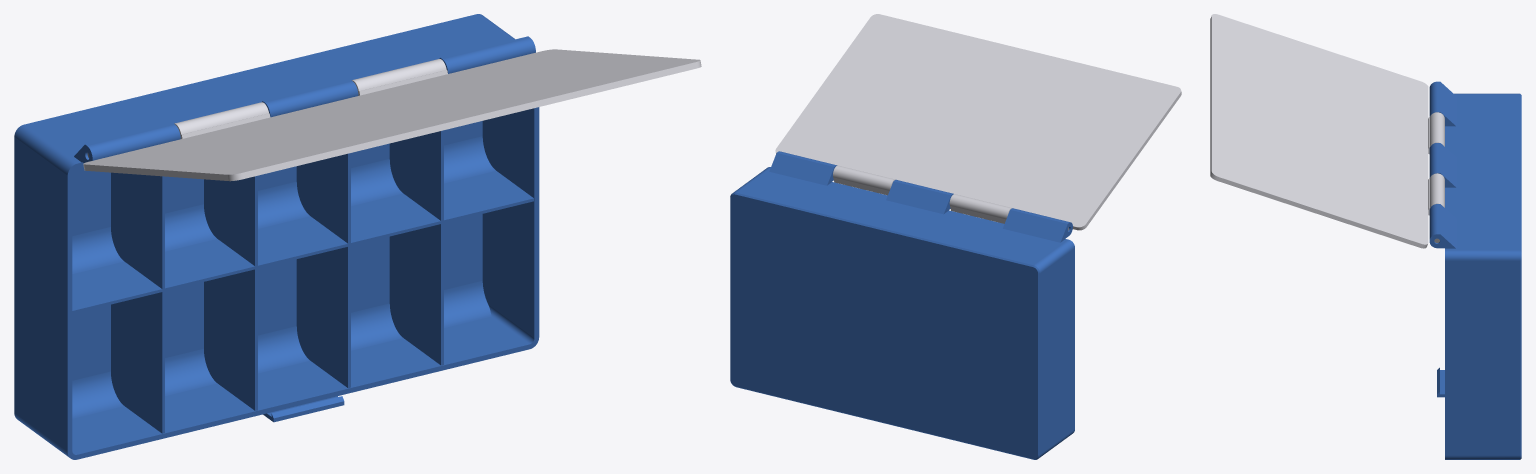
File: variant-COLS_5-ROWS_2.glb
3 views of the same model, side by side, from view 1: azimuth 30°, elevation 25°; view 2: azimuth 150°, elevation 25°; view 3: azimuth 270°, elevation 25° (orthographic). The views are drawn at different scales.
Parts seen in each view (by area): view 1: 0:Kasten, 1:Deckel; view 2: 0:Kasten, 1:Deckel; view 3: 1:Deckel, 0:Kasten.
Part boxes in pixels (x1=…): 0:Kasten: x1=14, y1=14, x2=539, y2=459; 1:Deckel: x1=83, y1=49, x2=701, y2=181; 0:Kasten: x1=730, y1=151, x2=1074, y2=459; 1:Deckel: x1=775, y1=14, x2=1181, y2=230; 1:Deckel: x1=1210, y1=14, x2=1444, y2=248; 0:Kasten: x1=1429, y1=81, x2=1521, y2=459.
Size of the model in its own units: 200 by 167 by 162.
